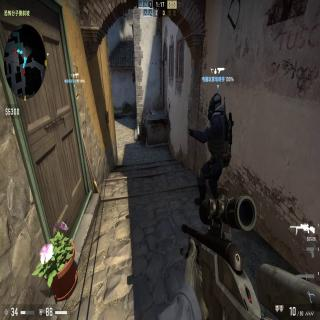CT-Body: (187, 92, 233, 207)
CT-Head: (206, 90, 222, 122)
